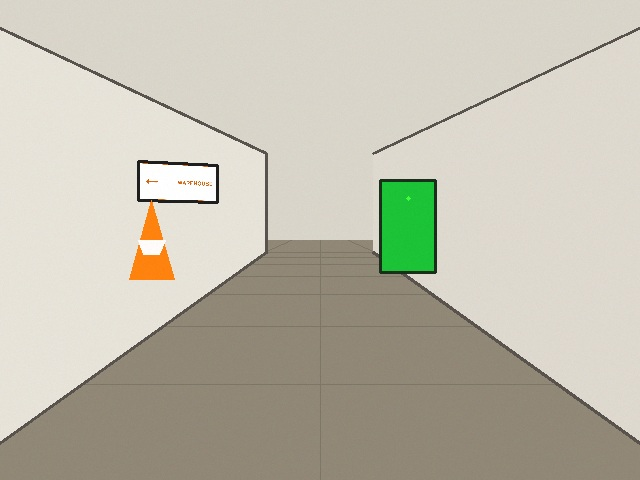charging_station: (380, 180, 435, 272)
directional_sign: (138, 161, 217, 202)
obstacle: (129, 200, 174, 279)
